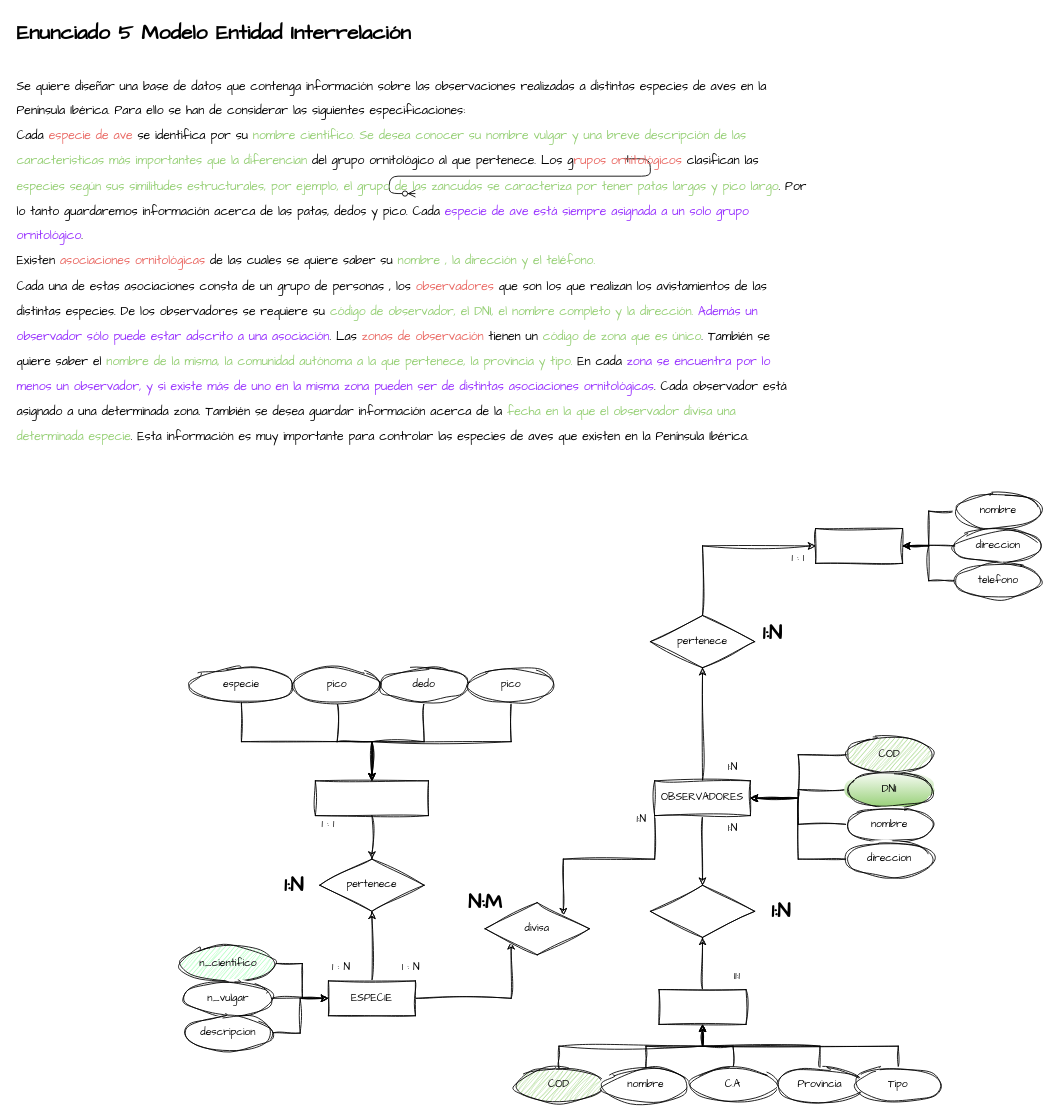
The diagram is 1057 pixels wide and 1118 high, and some of its shapes have lost their labels. The shapes that lost their labels are listed below. From the top down, each one's centre as x and y in pixels, then its label:
At (859,545): "ASOCIACIONES".
At (371,798): "G_ORNITOLOGICO".
At (702,910): "observa".
At (702,1006): "ZONAS_O".
